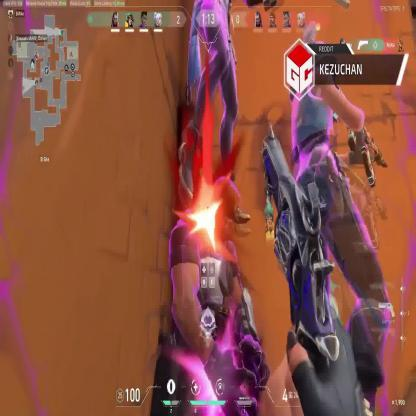enemy: (286, 36, 389, 416), (177, 0, 251, 229)
enemy_head: (300, 35, 334, 86)
